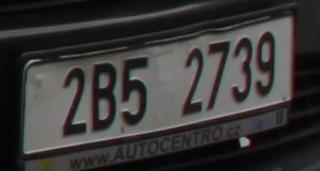2: (63, 67, 87, 135), (182, 48, 203, 114)
3: (233, 37, 252, 102)
5: (122, 59, 147, 126)
7: (209, 43, 230, 110)
9: (256, 32, 275, 96)
B: (92, 63, 116, 131)
